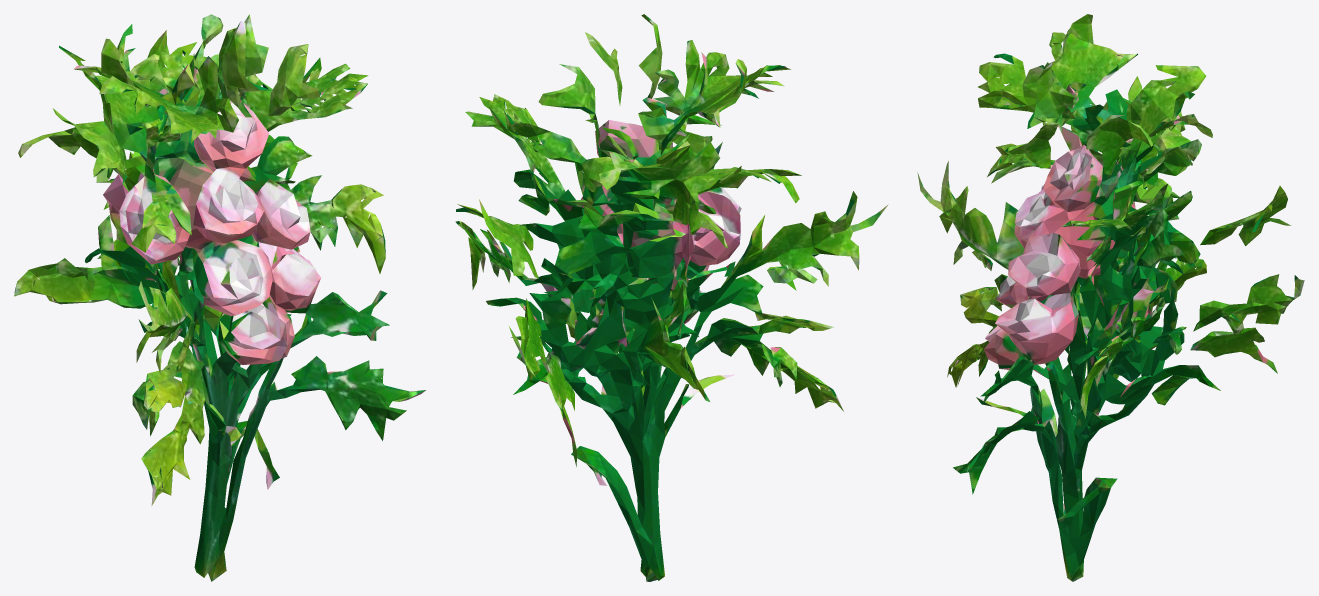
Rendered from flowers.glb.
3 views of the same model, side by side, from view 1: azimuth 30°, elevation 25°; view 2: azimuth 150°, elevation 25°; view 3: azimuth 270°, elevation 25° (orthographic). The views are drawn at different scales.
Visible parts, largest first — view 1: tmpxnu73u27.ply; view 2: tmpxnu73u27.ply; view 3: tmpxnu73u27.ply.
Boxes of the visible parts, left/top/right/bottom form: tmpxnu73u27.ply: left=14, top=14, right=425, bottom=581; tmpxnu73u27.ply: left=455, top=14, right=888, bottom=581; tmpxnu73u27.ply: left=917, top=14, right=1304, bottom=581.
Bounding box in the file's own units: 1.27 × 1.99 × 1.32.
Materials: 1 (1 with a texture image).
